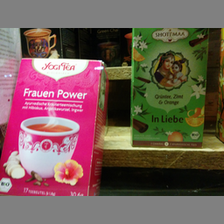tea: (1, 59, 105, 196), (131, 29, 210, 148)
